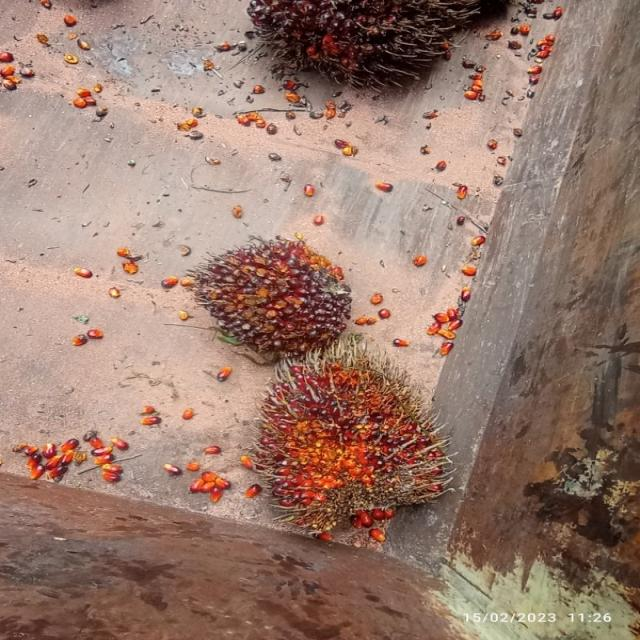fraksi 1: (140, 201, 413, 369)
fraksi 3: (227, 352, 479, 559)
